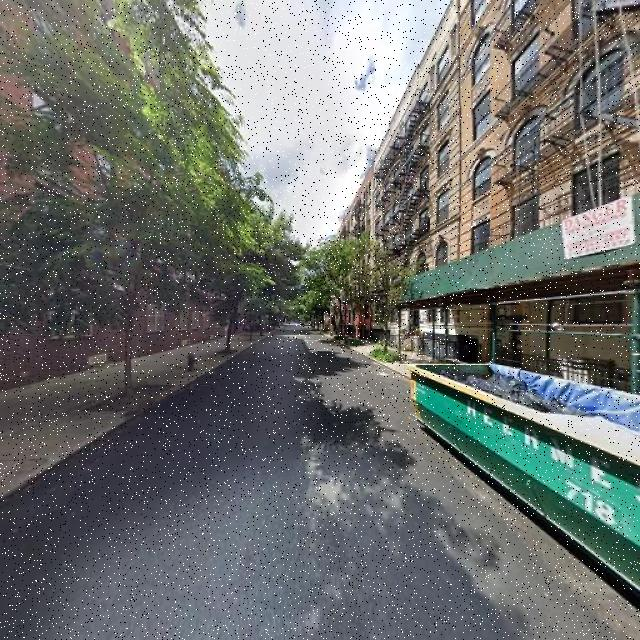Building: (1, 1, 212, 390), (459, 1, 640, 409), (374, 7, 455, 362)
